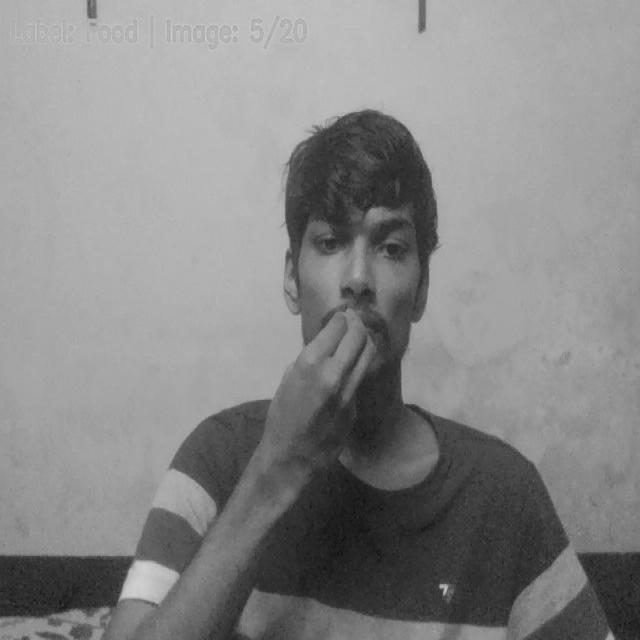Food: (272, 308, 384, 472)
